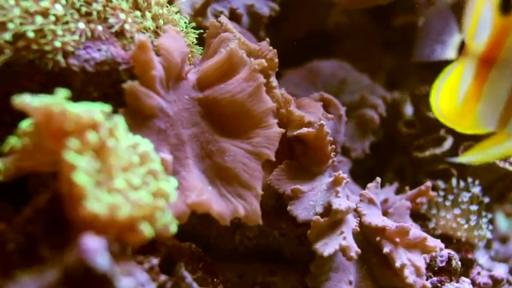Fish: (430, 0, 511, 164), (412, 1, 462, 62)
